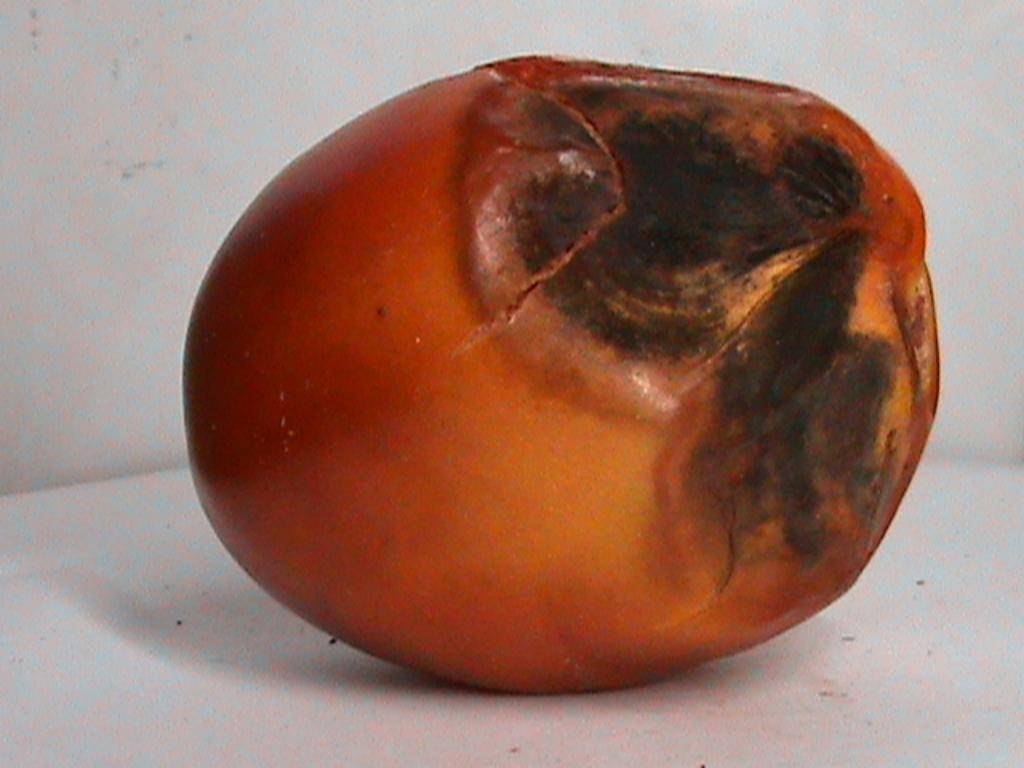rot_mold_decay: (450, 62, 915, 565)
surface_damage: (452, 234, 593, 353), (670, 447, 762, 622), (527, 84, 628, 194), (593, 194, 624, 234)
tomato: (184, 58, 936, 690)
